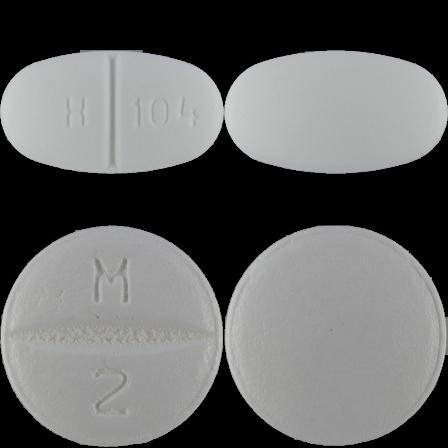60760-975: (0, 0, 224, 224)
